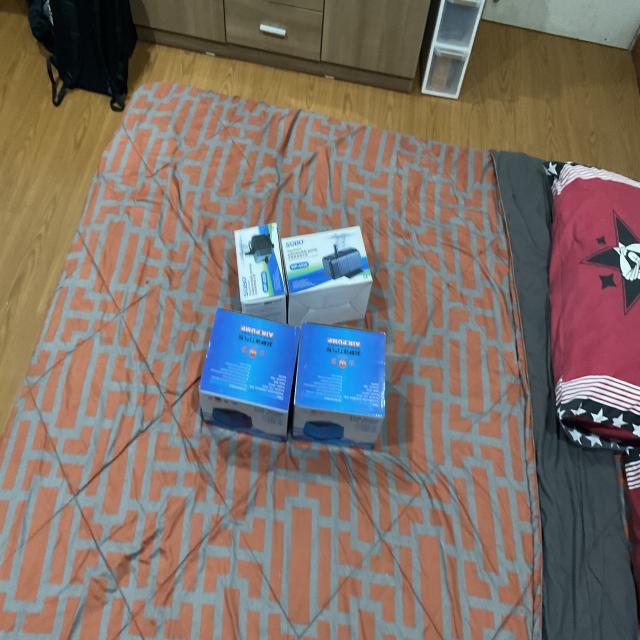SOBO_WP_4200: (274, 213, 386, 352), (218, 210, 292, 332)
YAMANO_LPP_20: (293, 307, 400, 476), (196, 296, 302, 462)
